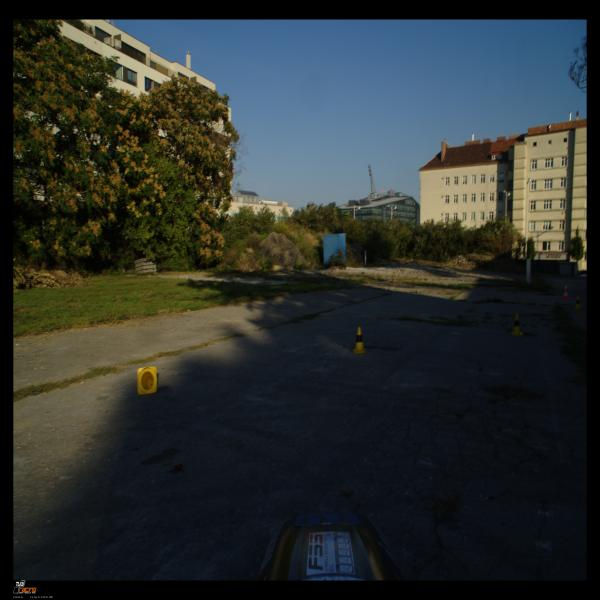large_orange_cone: (561, 282, 570, 301)
yellow_cone: (138, 366, 158, 395), (352, 326, 367, 353), (510, 313, 524, 337), (573, 296, 582, 310)
